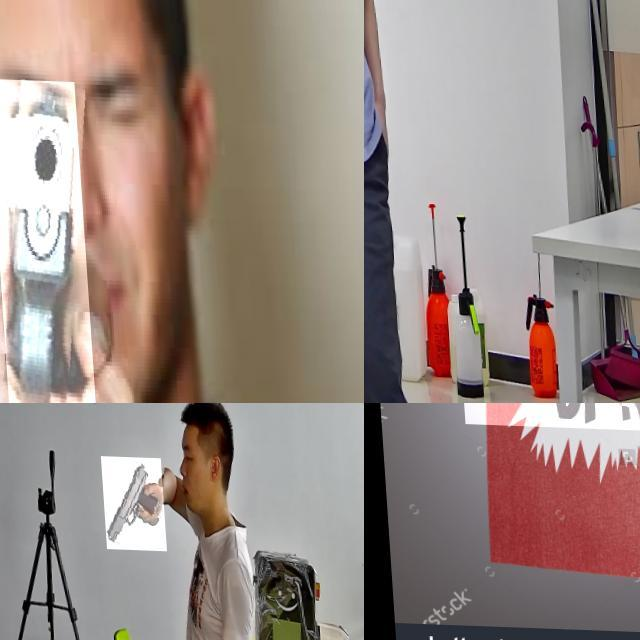gun-knife-thesis - v11 Yolov5 augmented: (440, 403, 640, 591), (0, 77, 92, 403), (98, 453, 163, 548), (364, 0, 398, 41)
